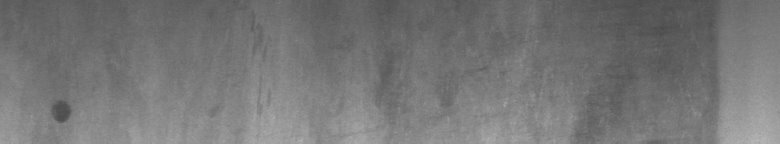fi: (48, 96, 75, 132)
